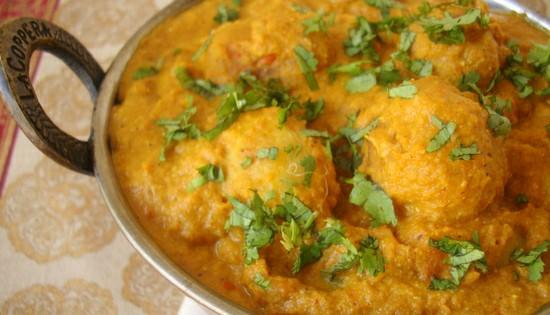DumAloo: (152, 0, 550, 315)
